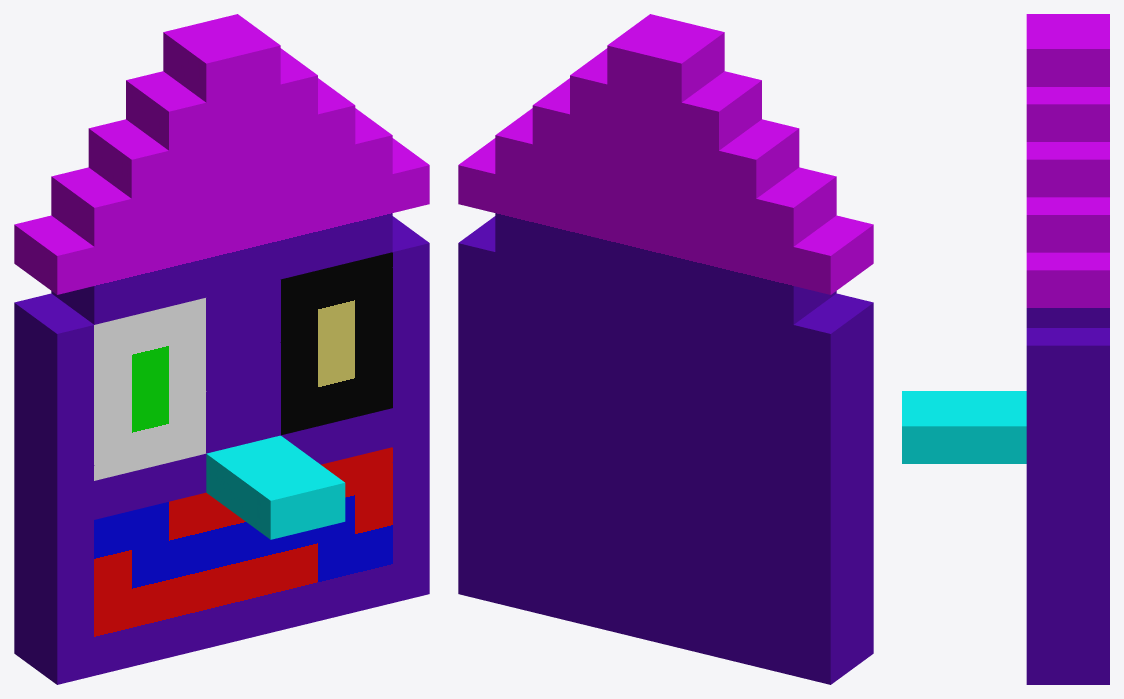
The model's file is ConfusedClownTotemNew.dae.
The picture shows the model from 3 angles, left to right: view 1: azimuth 30°, elevation 25°; view 2: azimuth 150°, elevation 25°; view 3: azimuth 270°, elevation 25°; orthographic projection. The views are drawn at different scales.
Parts seen in each view (by area): view 1: ConfusedClownHead; view 2: ConfusedClownHead; view 3: ConfusedClownHead.
Boxes of the visible parts, left/top/right/bottom form: ConfusedClownHead: left=14, top=14, right=429, bottom=684; ConfusedClownHead: left=458, top=14, right=873, bottom=684; ConfusedClownHead: left=902, top=14, right=1109, bottom=684.
Bounding box in the file's own units: 10 × 15 × 5.
1 material, 1 textured.
